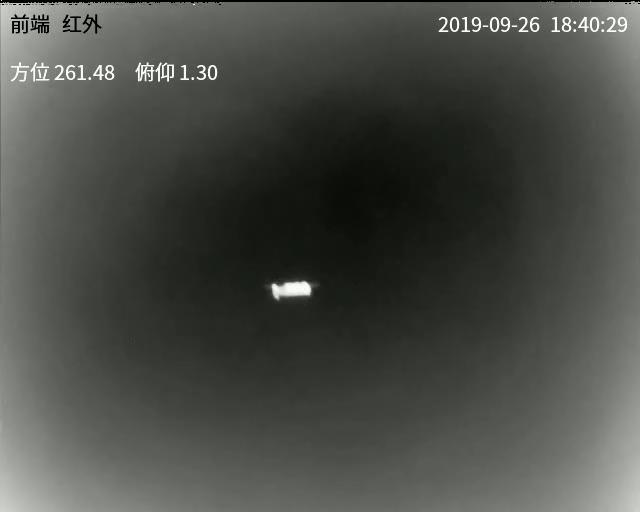uav: (262, 284, 320, 308)
